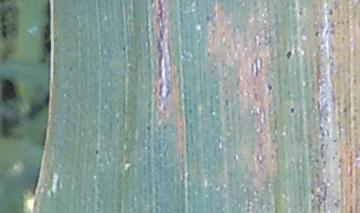tarspot: (285, 49, 291, 62), (288, 106, 295, 114), (267, 83, 273, 92), (145, 125, 152, 132), (341, 107, 348, 114), (314, 30, 320, 38), (328, 8, 333, 16), (94, 148, 99, 155)
